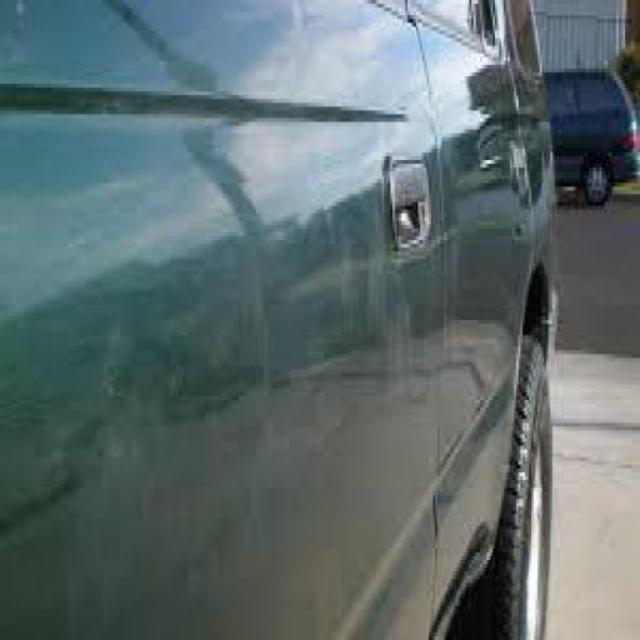rub: (331, 222, 421, 378), (473, 112, 518, 178)
